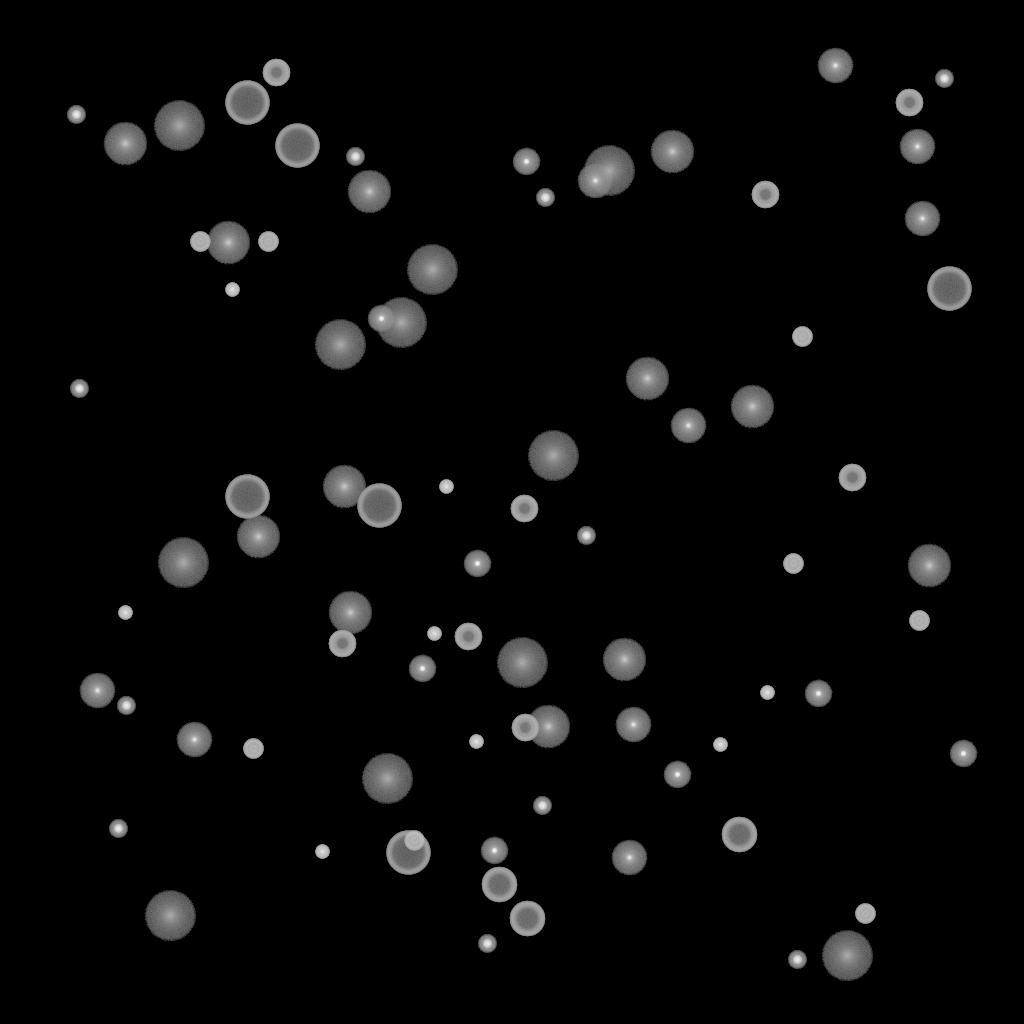depth:-10: (663, 761, 691, 789), (804, 680, 832, 708), (367, 305, 395, 333), (463, 550, 491, 578), (408, 655, 436, 683), (949, 740, 977, 768), (480, 837, 508, 865), (512, 148, 540, 176)
depth:-20: (935, 70, 953, 88), (346, 148, 364, 166), (536, 189, 554, 207), (70, 380, 88, 398), (533, 797, 551, 815), (577, 527, 595, 545), (67, 106, 85, 124), (788, 951, 806, 969), (478, 935, 496, 953), (117, 697, 135, 715), (109, 820, 127, 838)
depth:-30: (713, 738, 727, 752), (760, 686, 774, 700), (118, 606, 132, 620), (427, 627, 441, 641), (225, 283, 239, 297), (469, 735, 483, 749), (439, 480, 453, 494), (315, 845, 329, 859)
depth:-40: (909, 611, 929, 631), (783, 554, 803, 574), (190, 232, 210, 252), (258, 232, 278, 252), (792, 327, 812, 347), (243, 739, 263, 759), (404, 831, 424, 851), (855, 904, 875, 924)
depth:-50: (262, 59, 290, 87), (838, 464, 866, 492), (328, 630, 356, 658), (454, 623, 482, 651), (895, 89, 923, 117), (510, 495, 538, 523), (751, 181, 779, 209), (511, 714, 539, 742)
depth:-60: (481, 867, 517, 903), (509, 901, 545, 937), (721, 817, 757, 853)
depth:-70: (225, 475, 269, 519), (927, 267, 971, 311), (225, 81, 269, 125), (275, 124, 319, 168), (386, 831, 430, 875), (357, 484, 401, 528)
depth:0: (904, 201, 940, 237), (899, 129, 935, 165), (670, 408, 706, 444), (79, 673, 115, 709), (176, 722, 212, 758), (611, 840, 647, 876), (615, 707, 651, 743), (817, 48, 853, 84), (577, 163, 613, 199)
depth:10: (907, 544, 951, 588), (625, 357, 669, 401), (526, 705, 570, 749), (236, 515, 280, 559), (347, 170, 391, 214), (206, 221, 250, 265), (328, 591, 372, 635), (650, 130, 694, 174), (322, 465, 366, 509), (602, 638, 646, 682), (103, 122, 147, 166), (730, 385, 774, 429)
depth:20: (821, 931, 873, 981), (375, 298, 427, 348), (527, 431, 579, 481), (153, 101, 205, 151), (314, 320, 366, 370), (583, 146, 635, 196), (406, 245, 458, 295), (496, 638, 548, 688), (144, 891, 196, 941), (361, 754, 413, 804), (157, 538, 209, 588)
